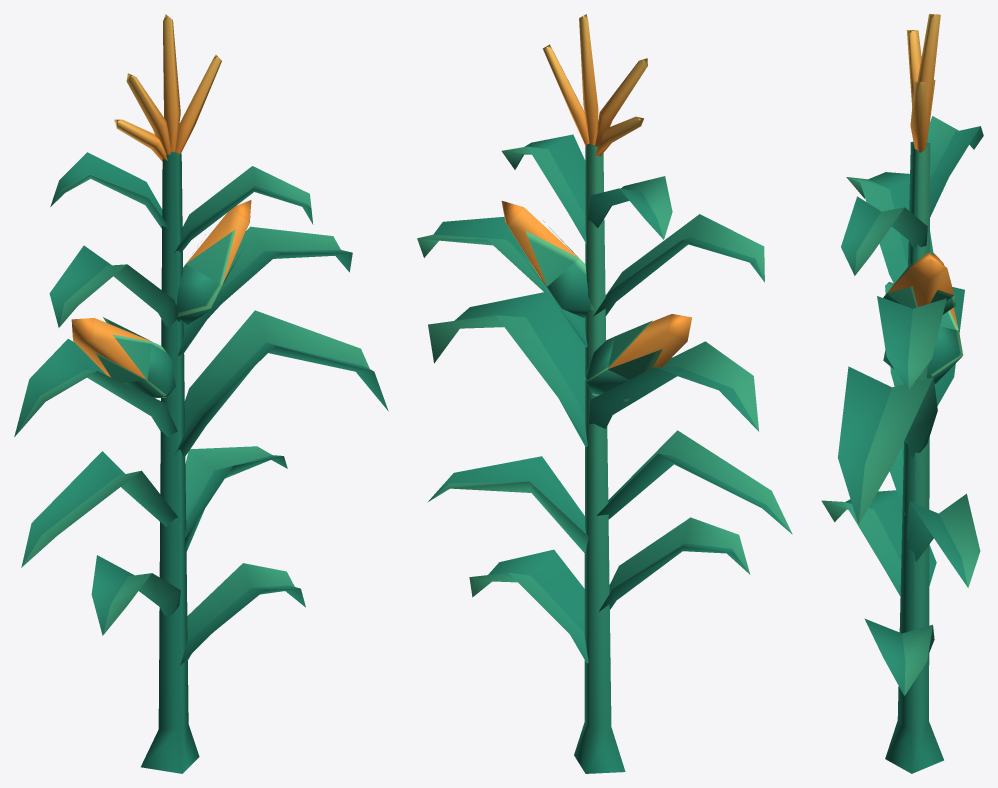
File: CornSprout03.glb
3 renders of one model, left to right at view 1: azimuth 30°, elevation 25°; view 2: azimuth 150°, elevation 25°; view 3: azimuth 270°, elevation 25°, orthographic. The views are drawn at different scales.
Visible parts, largest first — view 1: CornSprout03; view 2: CornSprout03; view 3: CornSprout03.
Part boxes in pixels (x1,y1,x2,y2): CornSprout03: (14,14,388,773); CornSprout03: (417,14,792,773); CornSprout03: (821,14,983,773).
Size of the model in its own units: 1.67 by 3.27 by 0.6428.
Materials: 1 (1 with a texture image).
